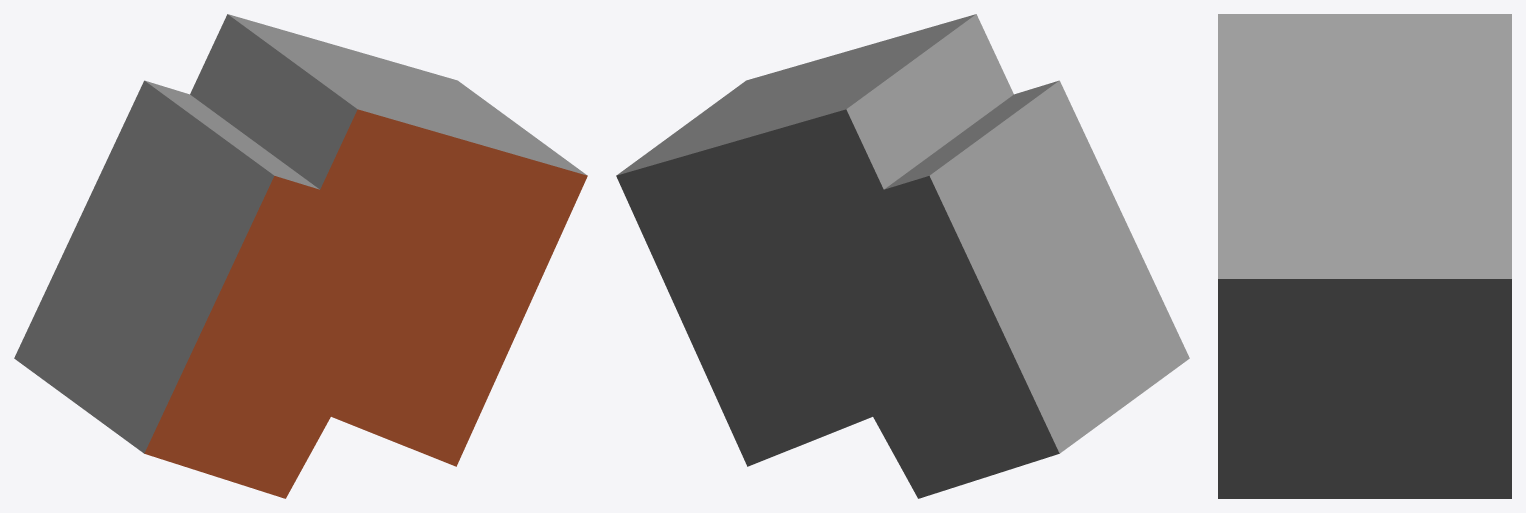
The model's file is construction_0556_assumed_A_Casa_h6m.obj.
The picture shows the model from 3 angles, left to right: view 1: azimuth 30°, elevation 25°; view 2: azimuth 150°, elevation 25°; view 3: azimuth 270°, elevation 25°; orthographic projection. The views are drawn at different scales.
Visible parts, largest first — view 1: construction_0556_assumed_A_Casa; view 2: construction_0556_assumed_A_Casa; view 3: construction_0556_assumed_A_Casa.
Boxes of the visible parts, x1,y1,x2,y2 form: construction_0556_assumed_A_Casa: (14, 14, 587, 498); construction_0556_assumed_A_Casa: (616, 14, 1189, 498); construction_0556_assumed_A_Casa: (1218, 14, 1511, 498).
Size of the model in its own units: 11.8 by 9.7 by 6.
